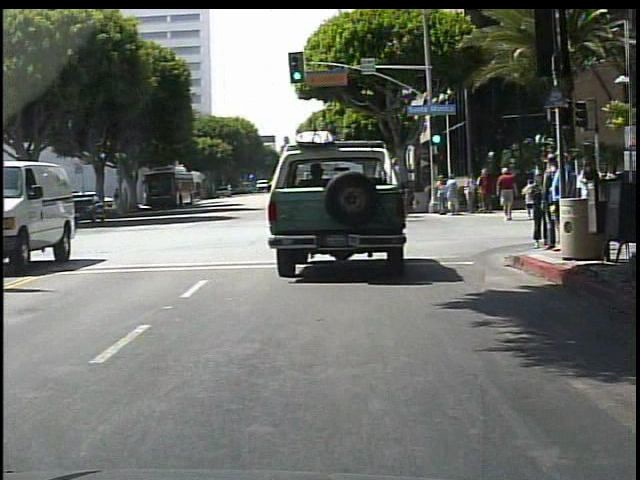person: (546, 149, 570, 261), (529, 169, 550, 251), (544, 151, 561, 252), (499, 166, 519, 223), (521, 177, 541, 223), (541, 170, 556, 219), (446, 174, 461, 217), (480, 168, 493, 212), (463, 172, 476, 212), (437, 174, 448, 213), (112, 187, 122, 210), (123, 186, 131, 211)
